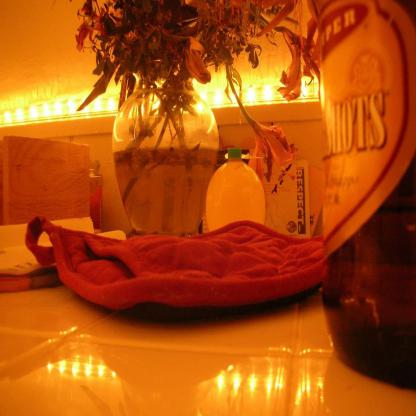vase: (112, 78, 219, 237)
